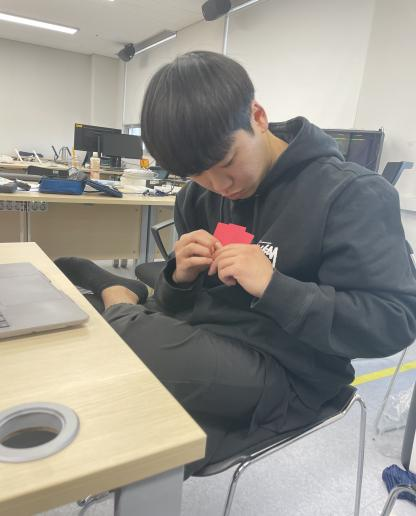ThreeHwatoo: (216, 218, 257, 239)
